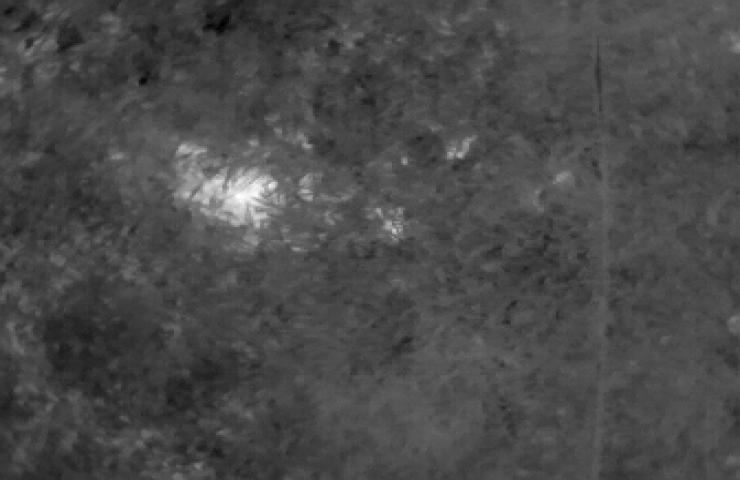landmines: (177, 163, 285, 231)
